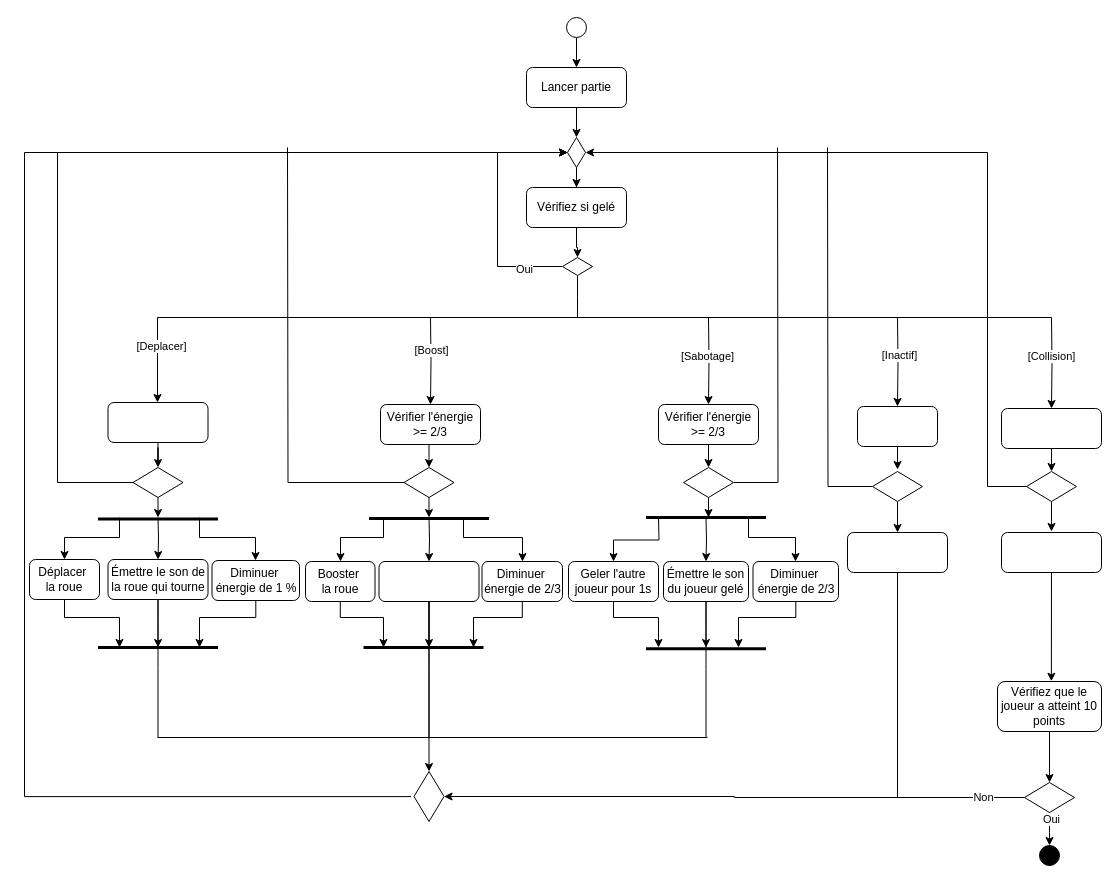
Some shapes in this 1119 by 883 pixel diagram are drawn without their labels. The shapes that lost their labels are listed below. From the top down, each one's box as (x1, y1, x2, y2) in pixels, then its label:
(107, 402, 208, 442): Vérifier l'énergie >= 1%
(856, 406, 938, 446): Verifier si joueur inactif
(1000, 408, 1102, 448): Verifier si collision avec une hyène
(846, 532, 948, 572): Augmenter énergie 25%
(1000, 532, 1102, 572): Augmenter le score joueur de 1
(378, 560, 479, 602): Émettre le son de la roue boostée
